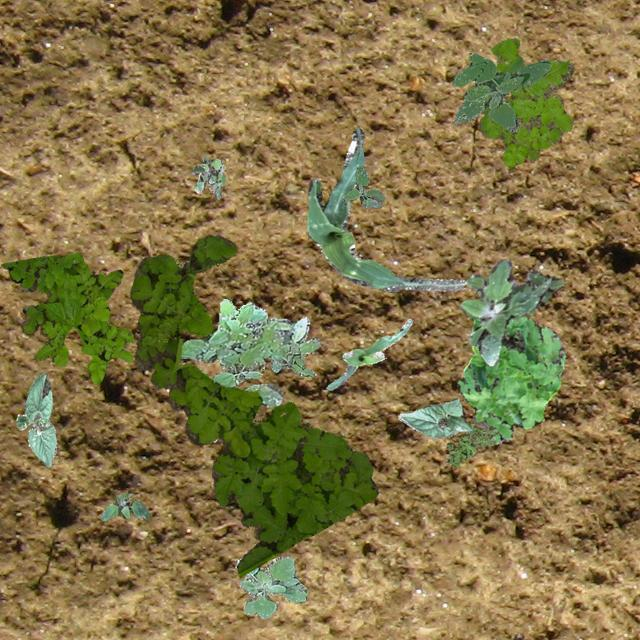crop: (306, 127, 466, 290), (324, 318, 412, 390), (15, 372, 56, 466), (396, 398, 472, 438)
weed: (130, 234, 376, 576), (180, 298, 318, 442), (1, 252, 132, 382), (456, 314, 564, 442), (478, 37, 574, 166), (458, 258, 562, 364), (452, 52, 550, 132), (234, 556, 306, 618), (444, 422, 496, 466), (342, 164, 384, 208), (268, 342, 314, 376), (190, 156, 224, 198), (100, 492, 150, 520)
